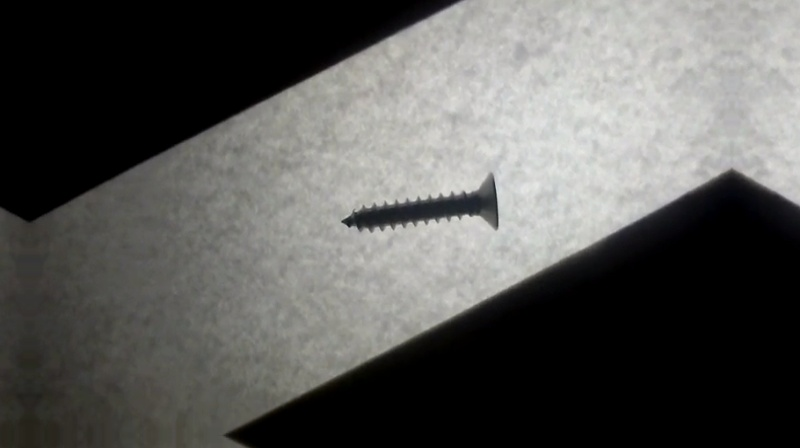S001: (335, 170, 501, 234)
